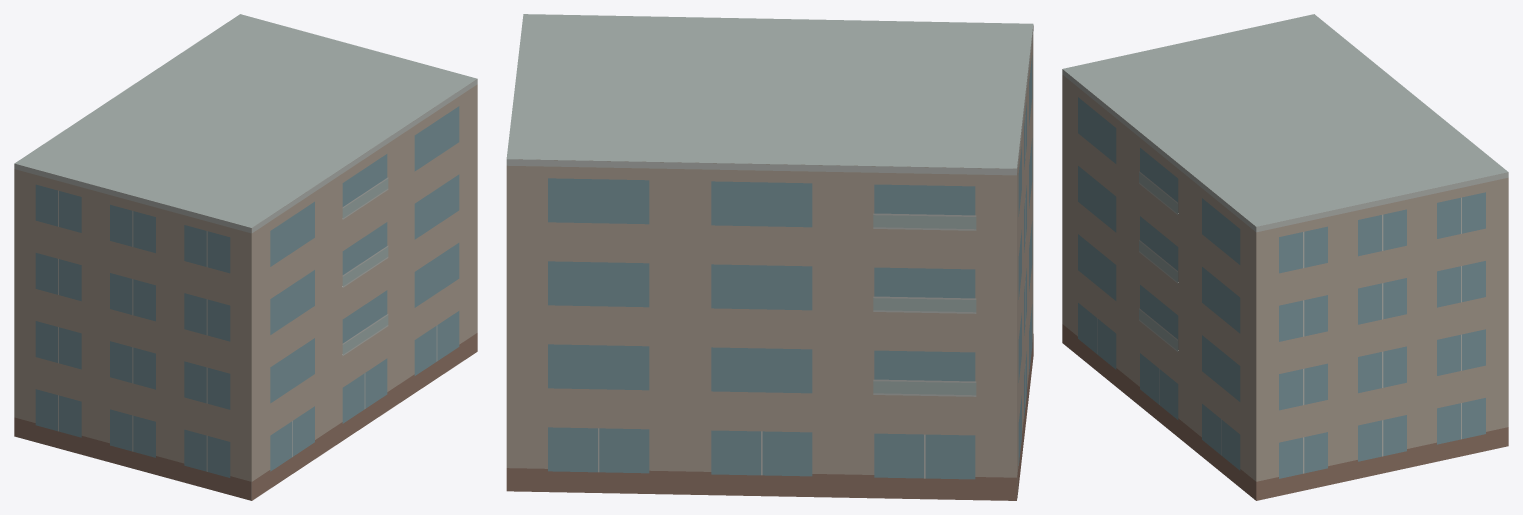
The model's file is survey-upis-32946752.glb.
The picture shows the model from 3 angles, left to right: view 1: azimuth 30°, elevation 25°; view 2: azimuth 150°, elevation 25°; view 3: azimuth 270°, elevation 25°; orthographic projection. The views are drawn at different scales.
Parts seen in each view (by area): view 1: survey-upis-32946752.tmp; view 2: survey-upis-32946752.tmp; view 3: survey-upis-32946752.tmp.
Part boxes in pixels (x1,y1,x2,y2): survey-upis-32946752.tmp: (14, 14, 477, 500); survey-upis-32946752.tmp: (506, 14, 1033, 500); survey-upis-32946752.tmp: (1062, 14, 1508, 500).
Bounding box in the file's own units: 20.34 × 12.2 × 18.02.
